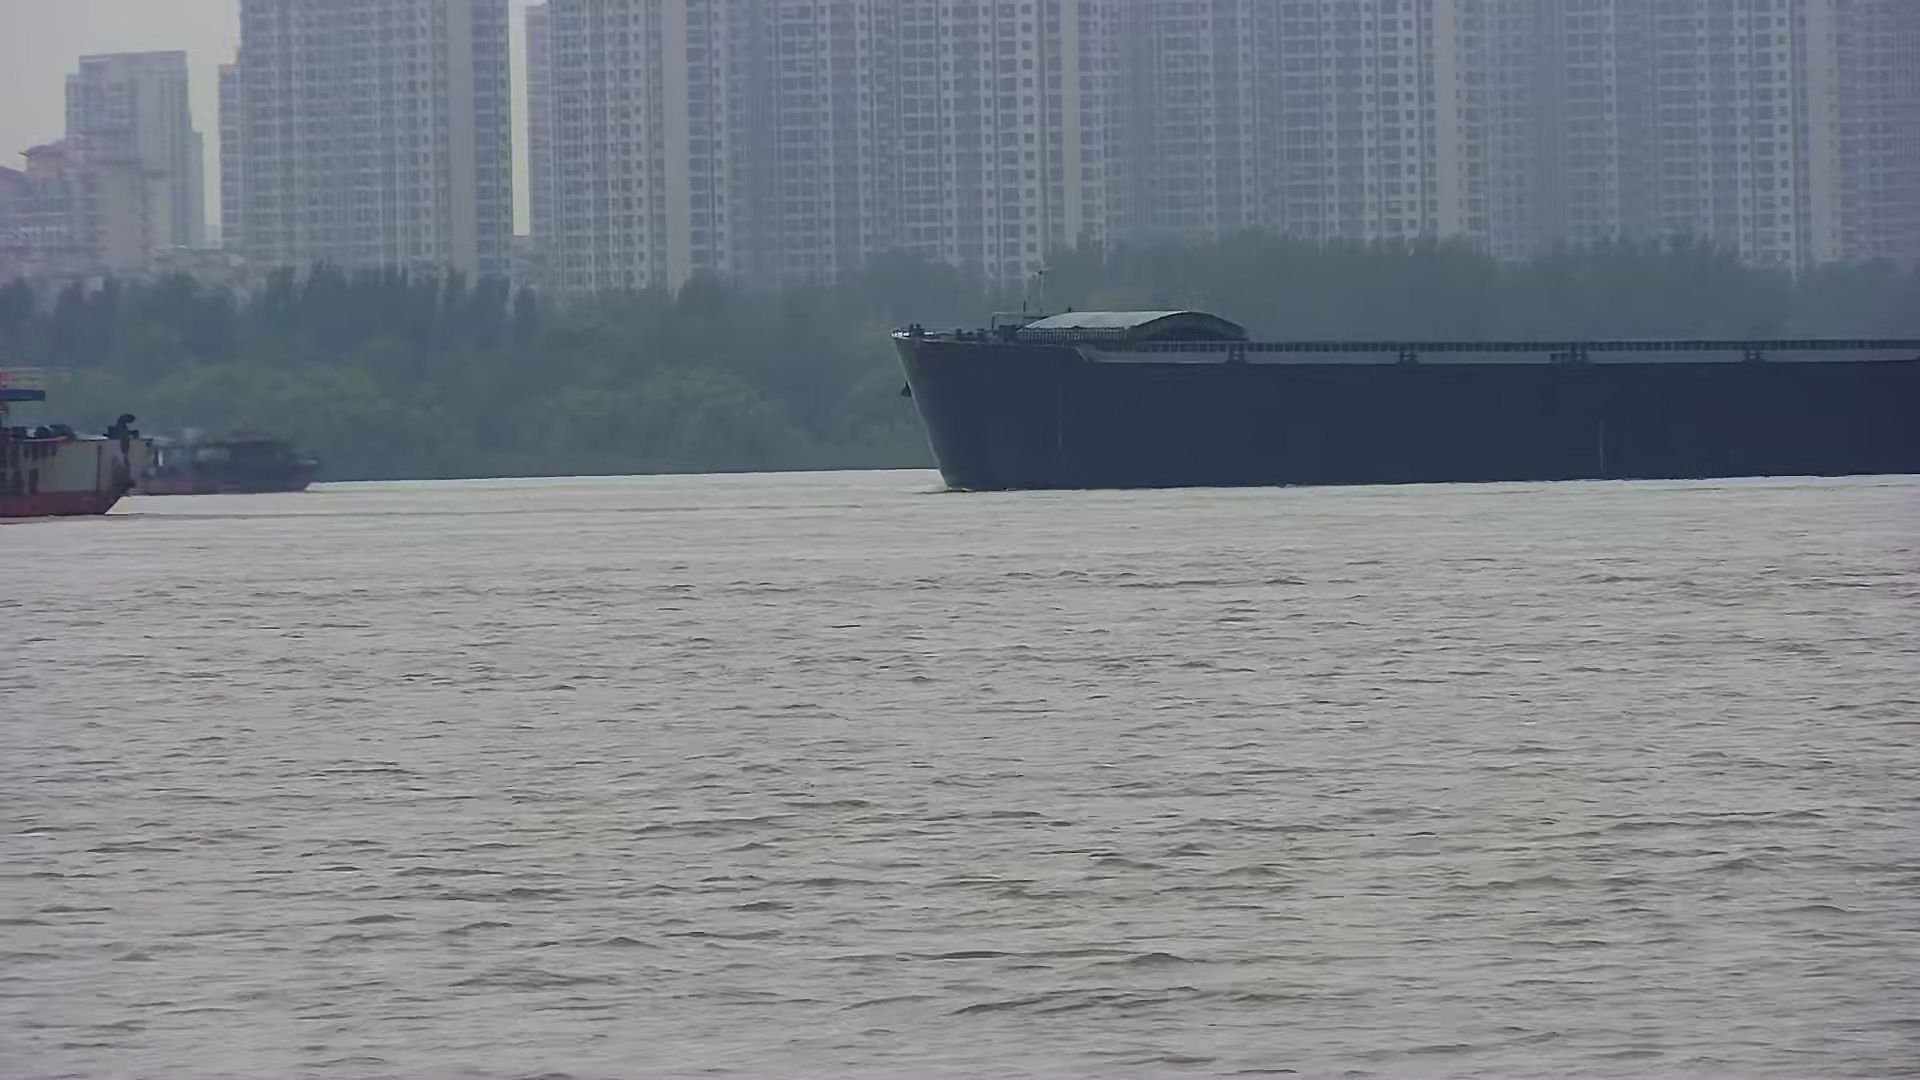ship: (891, 301, 1920, 493), (1, 390, 137, 524), (132, 431, 322, 496)
